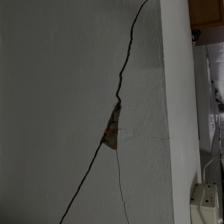Medium: (44, 26, 151, 216)
